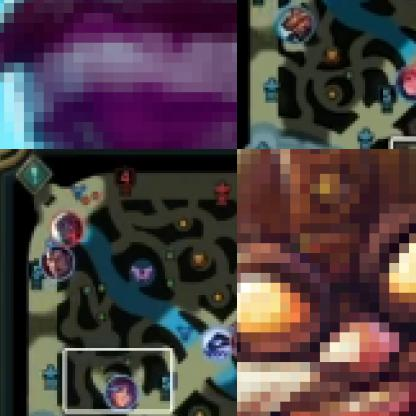Braum: (0, 0, 236, 148)
Corki: (237, 149, 415, 415)
Darius: (39, 245, 76, 281)
Lillia: (103, 375, 140, 413)
Udyr: (275, 2, 316, 46)
Xerath: (199, 328, 236, 363)
Yone: (48, 210, 86, 248)
Zoe: (396, 67, 415, 102)
